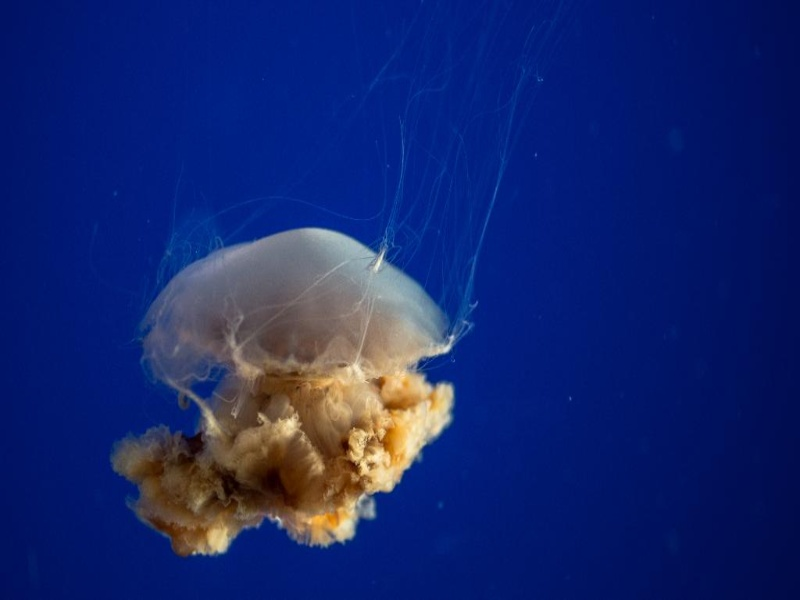Jellyfish: (129, 102, 556, 591)
